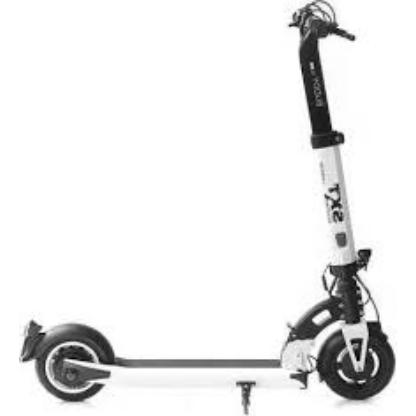bike: (279, 3, 397, 401), (279, 159, 396, 402), (280, 248, 396, 401), (19, 319, 116, 403)
car: (19, 320, 116, 403)
